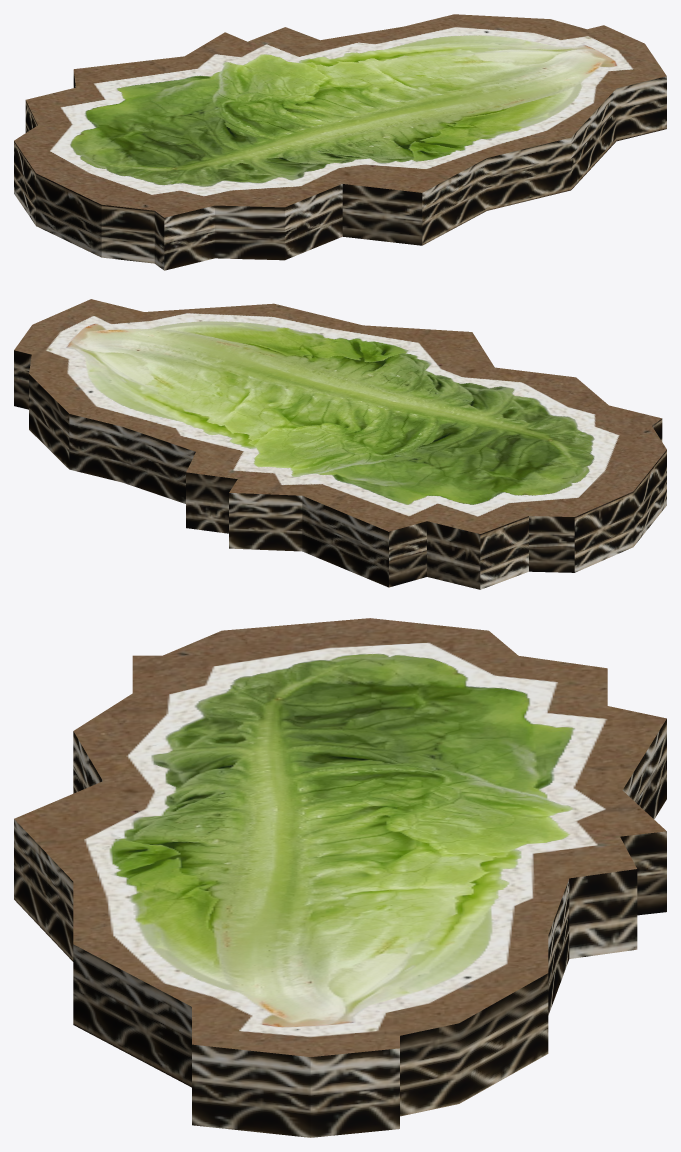
File: Lettuce.obj
3 views of the same model, one above another, from view 1: azimuth 30°, elevation 25°; view 2: azimuth 150°, elevation 25°; view 3: azimuth 270°, elevation 25° (orthographic). The views are drawn at different scales.
Parts seen in each view (by area): view 1: Plane; view 2: Plane; view 3: Plane.
Part boxes in pixels (x1,y1,x2,y2): Plane: [14, 14, 666, 270]; Plane: [14, 299, 666, 589]; Plane: [14, 618, 666, 1137].
Bounding box in the file's own units: 3.5 × 0.3 × 2.2.
